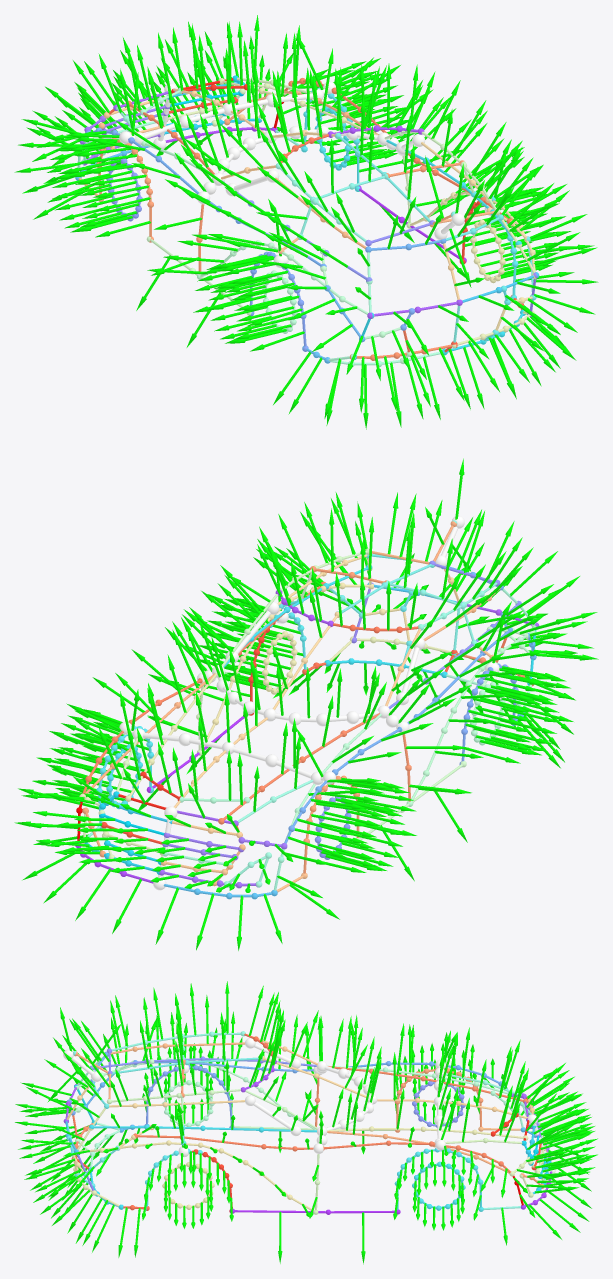
The model's file is ils_car4.gltf.
The picture shows the model from 3 angles, top to bottom: view 1: azimuth 30°, elevation 25°; view 2: azimuth 150°, elevation 25°; view 3: azimuth 270°, elevation 25°; orthographic projection. The views are drawn at different scales.
Size of the model in its own units: 0.5682 by 0.4186 by 1.08.
